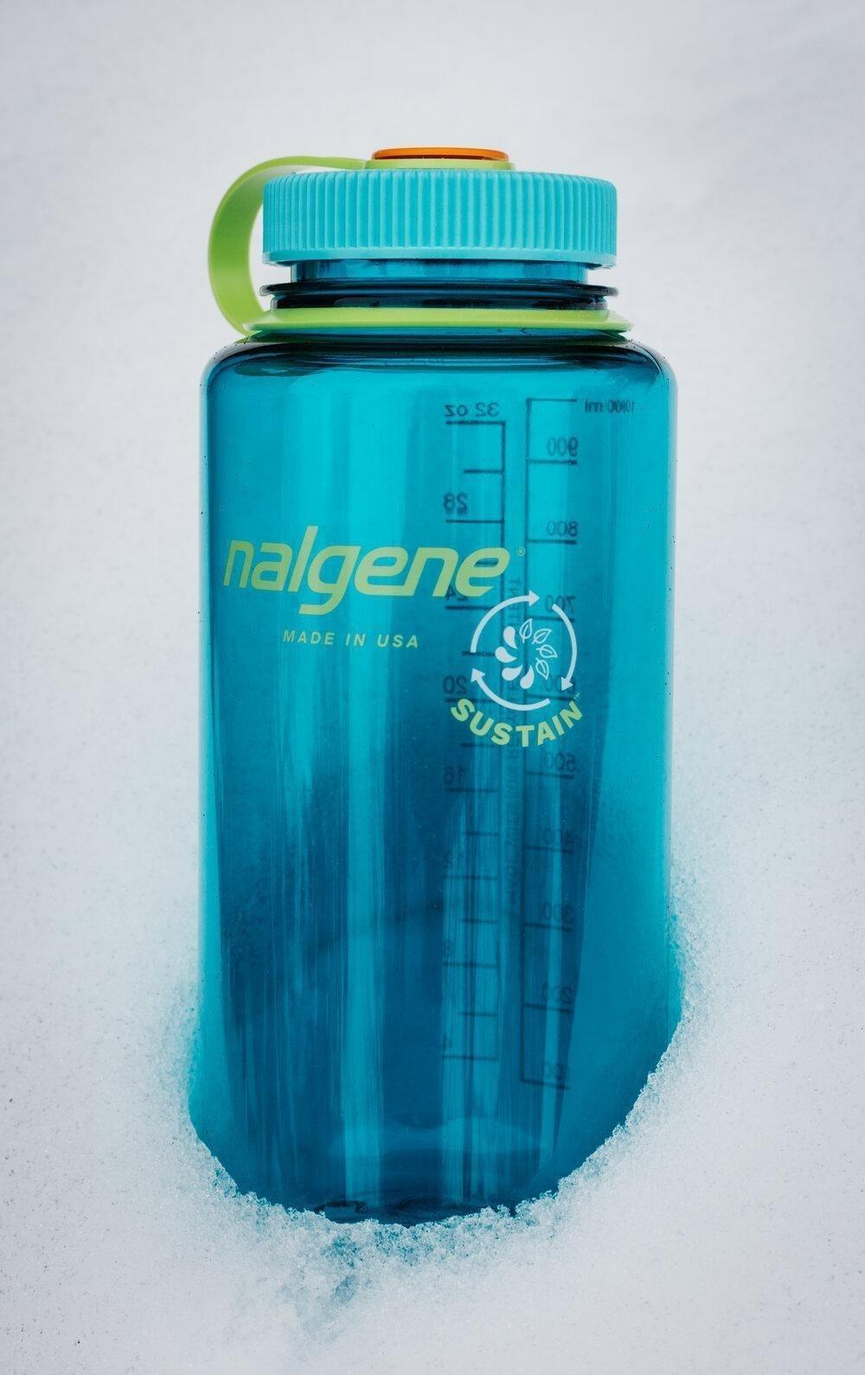gym bottle: (184, 138, 685, 1234)
